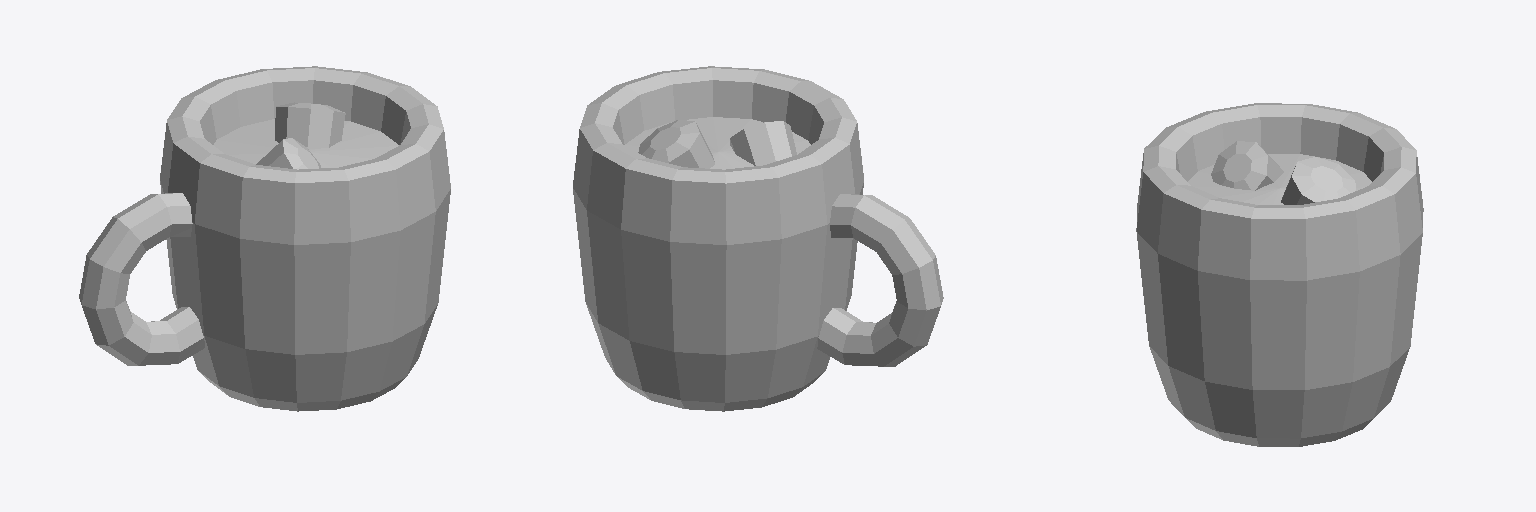
File: hot_chocolate.obj
3 views of the same model, side by side, from view 1: azimuth 30°, elevation 25°; view 2: azimuth 150°, elevation 25°; view 3: azimuth 270°, elevation 25° (orthographic).
Parts seen in each view (by area): view 1: hot_chocolate; view 2: hot_chocolate; view 3: hot_chocolate.
Boxes of the visible parts, x1,y1,x2,y2 form: hot_chocolate: [79, 66, 450, 411]; hot_chocolate: [573, 66, 943, 411]; hot_chocolate: [1136, 103, 1423, 446].
Size of the model in its own units: 0.6234 by 0.4299 by 0.4459.